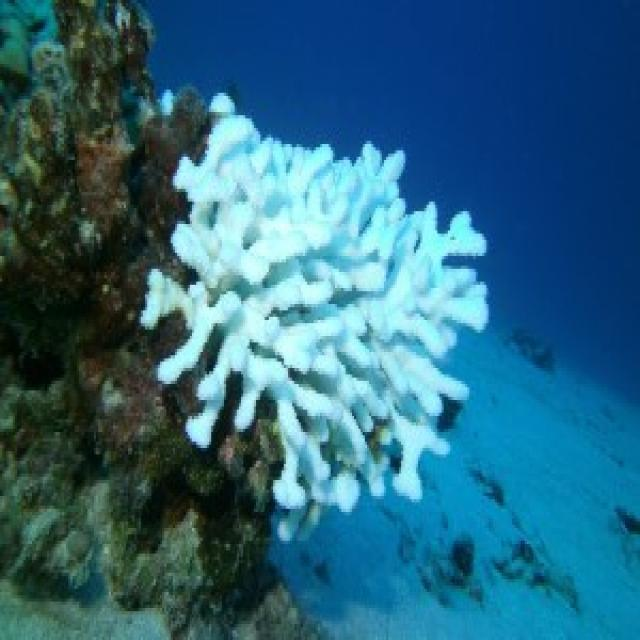Bleached: (141, 86, 502, 526)
Healthy: (1, 1, 315, 640)
